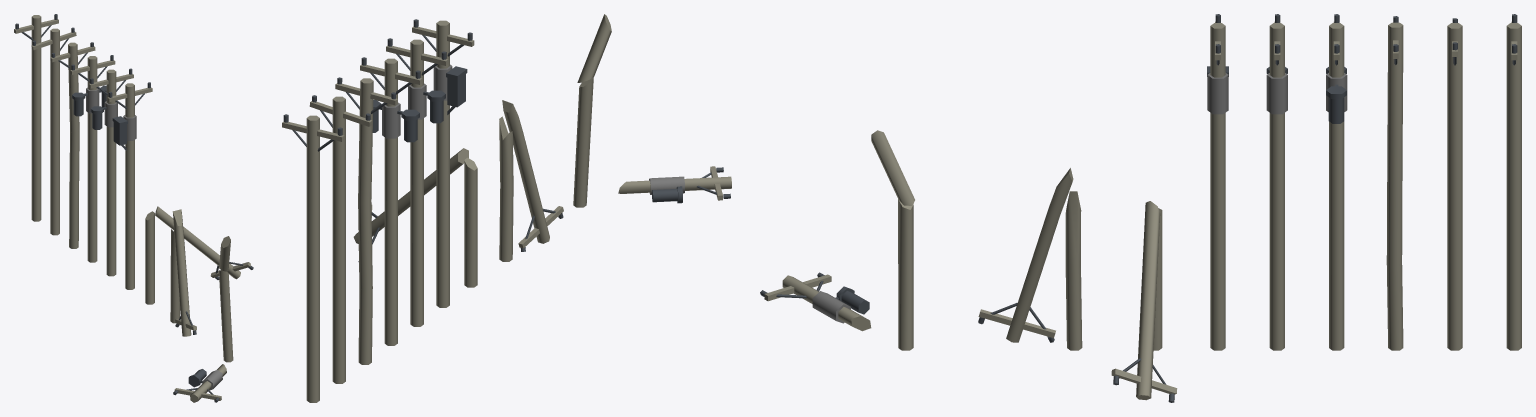
The model's file is power_line_poles.fbx.
3 renders of one model, left to right at view 1: azimuth 30°, elevation 25°; view 2: azimuth 150°, elevation 25°; view 3: azimuth 270°, elevation 25°, orthographic. The views are drawn at different scales.
Parts seen in each view (by area): view 1: power_line_pole_04, power_line_pole_05, power_line_pole_06, power_line_pole_01, power_line_pole_09, power_line_pole_02, power_line_pole_03, power_line_pole_08, power_line_pole_07; view 2: power_line_pole_04, power_line_pole_06, power_line_pole_05, power_line_pole_09, power_line_pole_01, power_line_pole_03, power_line_pole_02, power_line_pole_08, power_line_pole_07; view 3: power_line_pole_09, power_line_pole_08, power_line_pole_06, power_line_pole_04, power_line_pole_05, power_line_pole_01, power_line_pole_03, power_line_pole_02, power_line_pole_07.
Part boxes in pixels (bbox=[...]): power_line_pole_04: bbox=[70, 55, 115, 262]; power_line_pole_05: bbox=[88, 68, 133, 276]; power_line_pole_06: bbox=[107, 82, 152, 289]; power_line_pole_01: bbox=[14, 14, 58, 221]; power_line_pole_09: bbox=[173, 236, 233, 402]; power_line_pole_02: bbox=[31, 27, 76, 235]; power_line_pole_03: bbox=[50, 42, 95, 248]; power_line_pole_08: bbox=[170, 209, 196, 336]; power_line_pole_07: bbox=[145, 206, 253, 304]; power_line_pole_04: bbox=[360, 57, 422, 345]; power_line_pole_06: bbox=[412, 19, 474, 307]; power_line_pole_05: bbox=[386, 38, 448, 326]; power_line_pole_09: bbox=[573, 14, 731, 207]; power_line_pole_01: bbox=[282, 114, 344, 402]; power_line_pole_03: bbox=[335, 77, 397, 364]; power_line_pole_02: bbox=[309, 95, 372, 383]; power_line_pole_08: bbox=[499, 100, 563, 261]; power_line_pole_07: bbox=[353, 148, 477, 287]; power_line_pole_09: bbox=[760, 130, 914, 350]; power_line_pole_08: bbox=[978, 168, 1082, 350]; power_line_pole_06: bbox=[1207, 14, 1228, 350]; power_line_pole_04: bbox=[1326, 14, 1347, 350]; power_line_pole_05: bbox=[1266, 14, 1287, 350]; power_line_pole_01: bbox=[1506, 14, 1521, 350]; power_line_pole_03: bbox=[1386, 16, 1403, 350]; power_line_pole_02: bbox=[1447, 18, 1462, 350]; power_line_pole_07: bbox=[1111, 201, 1177, 402].
Bounding box in the file's own units: 16.06 × 18 × 38.59.
